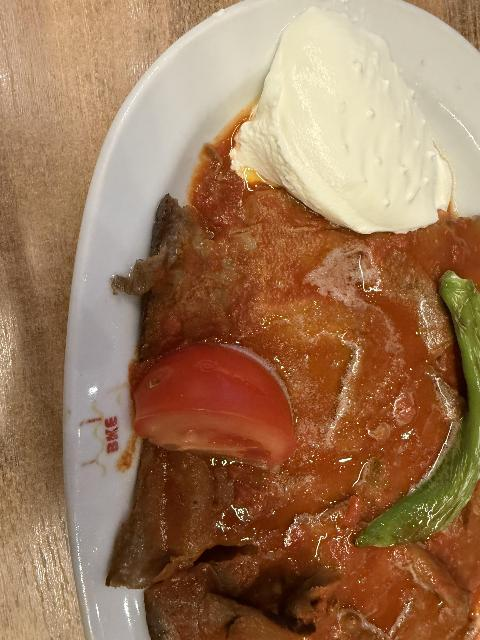Organik: (359, 278, 480, 570), (271, 33, 435, 214), (143, 352, 295, 463), (148, 571, 317, 640)
